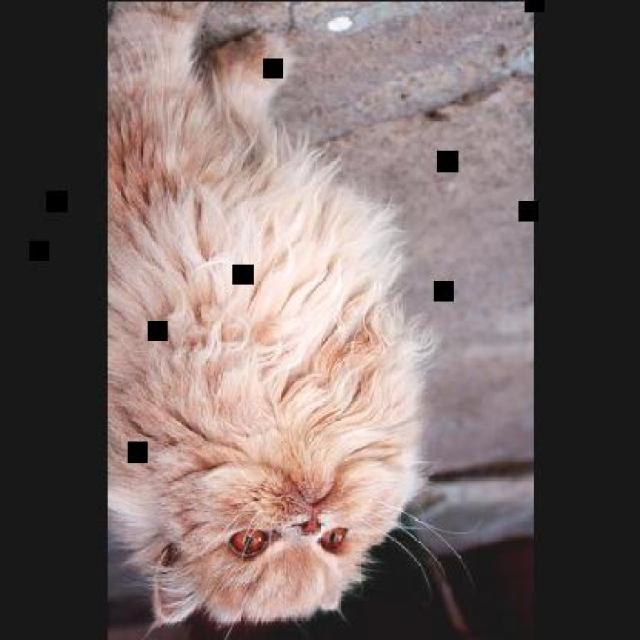unauthorized: (106, 0, 473, 638)
